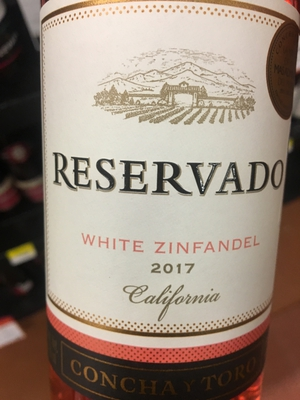reservado white zinfandel: (34, 7, 300, 399)
